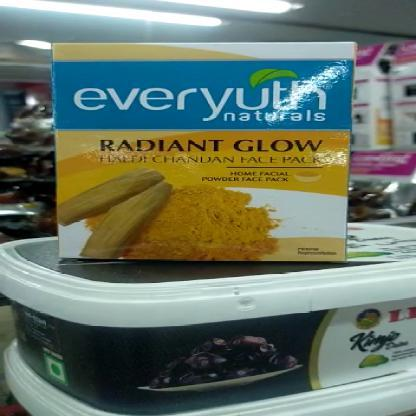EY HALDICHANDAN FP HF POWDER 25G: (59, 46, 350, 260)
